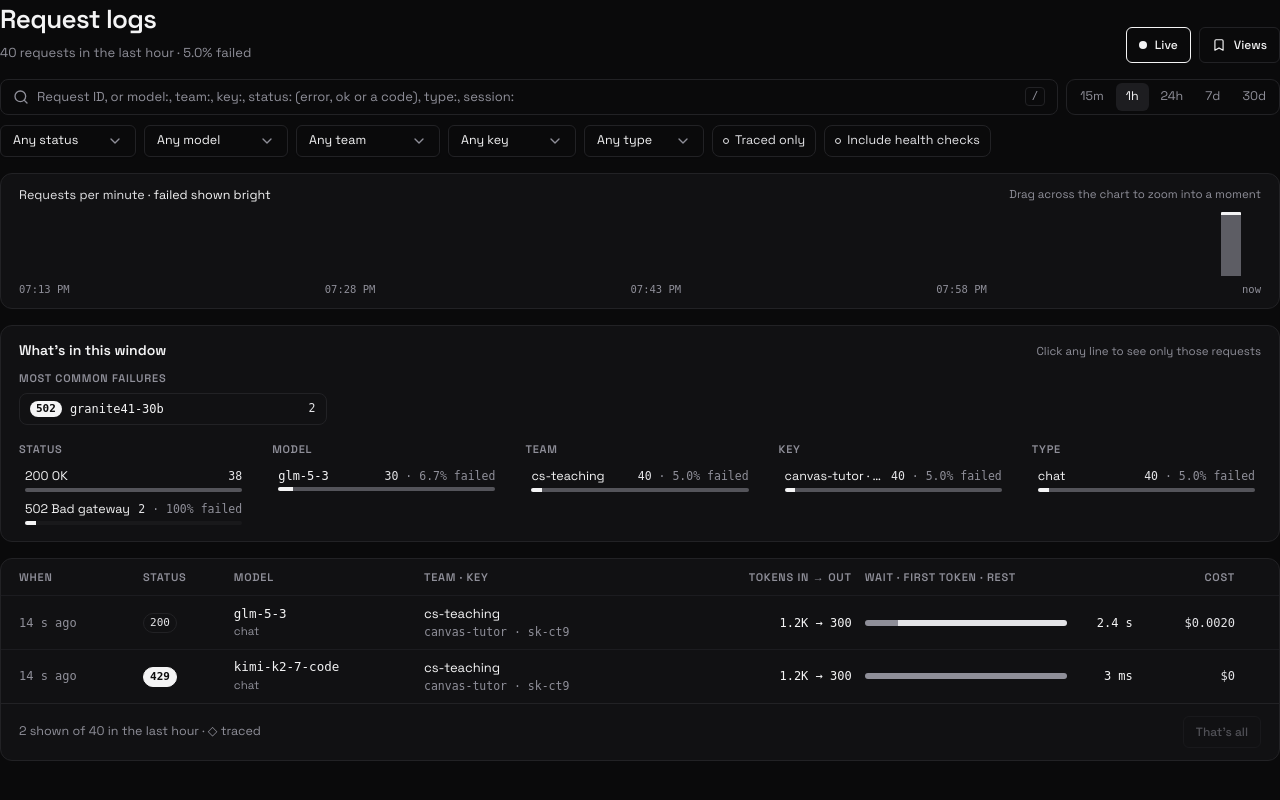
Test: the request log › filters to a request's session from the panel
Click the row that starts with "14 s ago" at [640, 623], box [1, 596, 1279, 650]
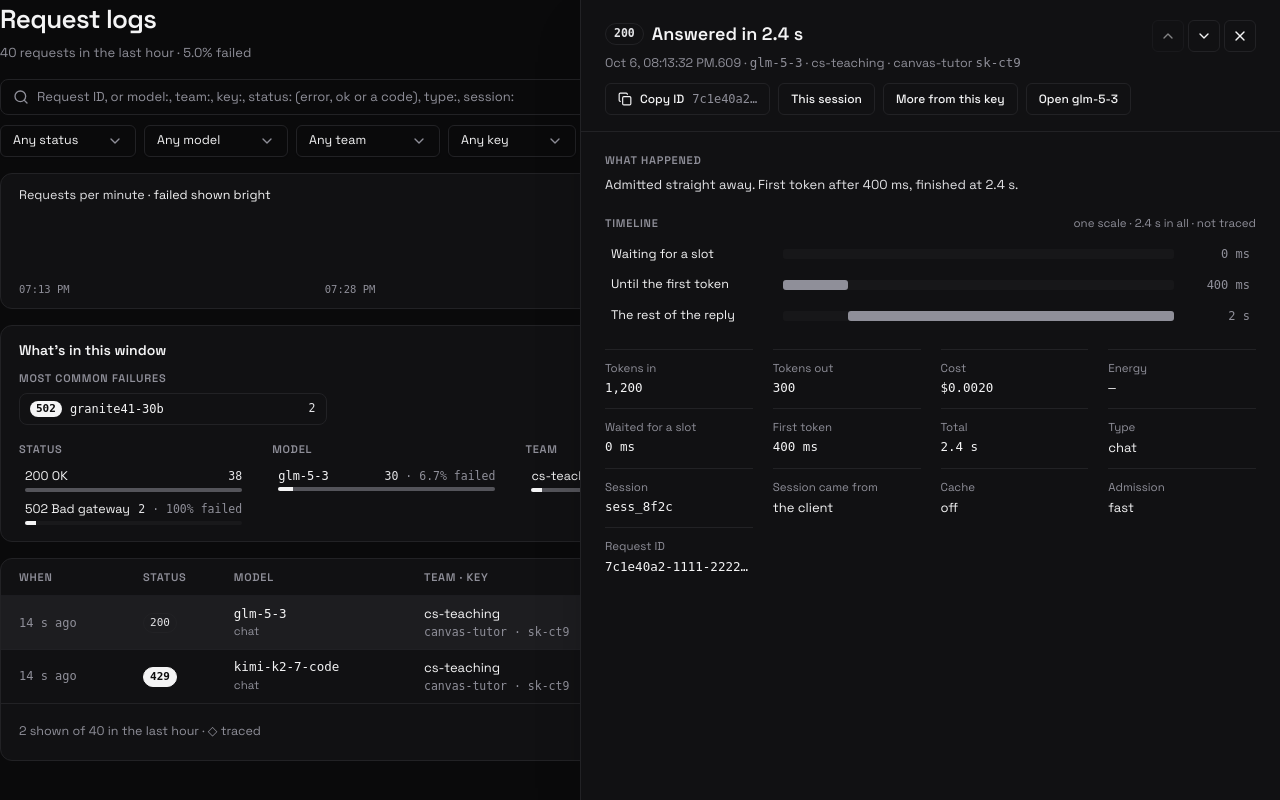
Click the button "This session" at [827, 99], box [778, 83, 875, 115]
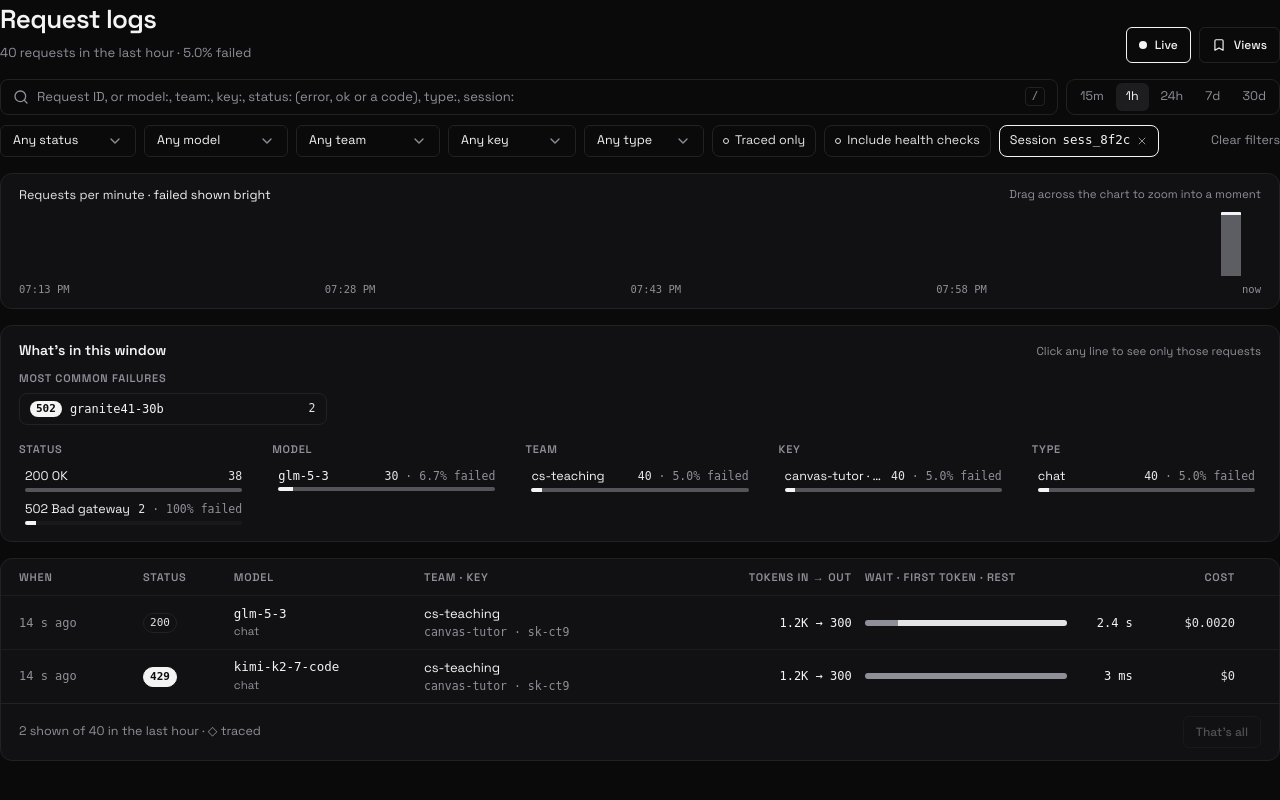
Expected: the text "sess_8f2c" is shown, [1062, 131, 1130, 150]
Expected: the dialog is gone
